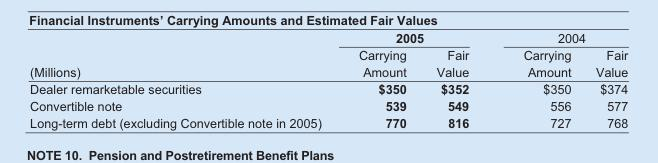table: (29, 28, 627, 132)
table column: (29, 28, 339, 132), (495, 28, 582, 132), (339, 28, 420, 132), (420, 28, 495, 132), (582, 28, 627, 132)
table column header: (29, 28, 627, 80)
table row: (29, 46, 627, 80), (29, 28, 627, 46), (29, 114, 627, 132), (29, 80, 627, 97), (29, 97, 627, 114)
table spanning cell: (29, 28, 339, 80), (339, 28, 495, 46), (495, 28, 627, 46)
